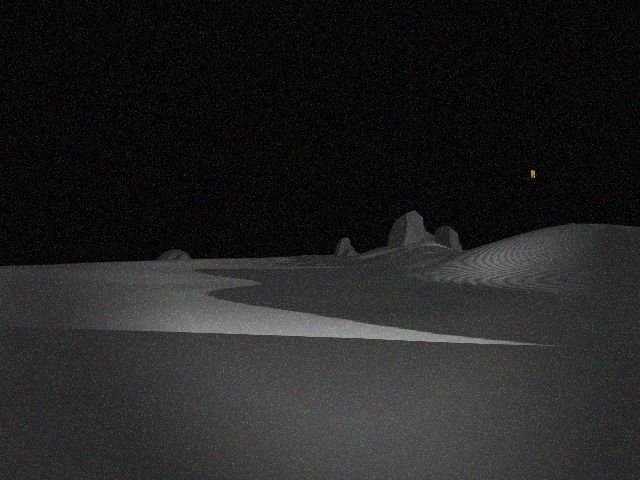cubesat: (526, 168, 537, 182)
